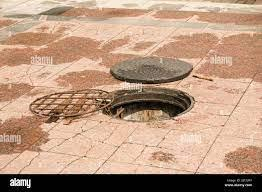open manhole-not overflowing-: (98, 46, 201, 144)
